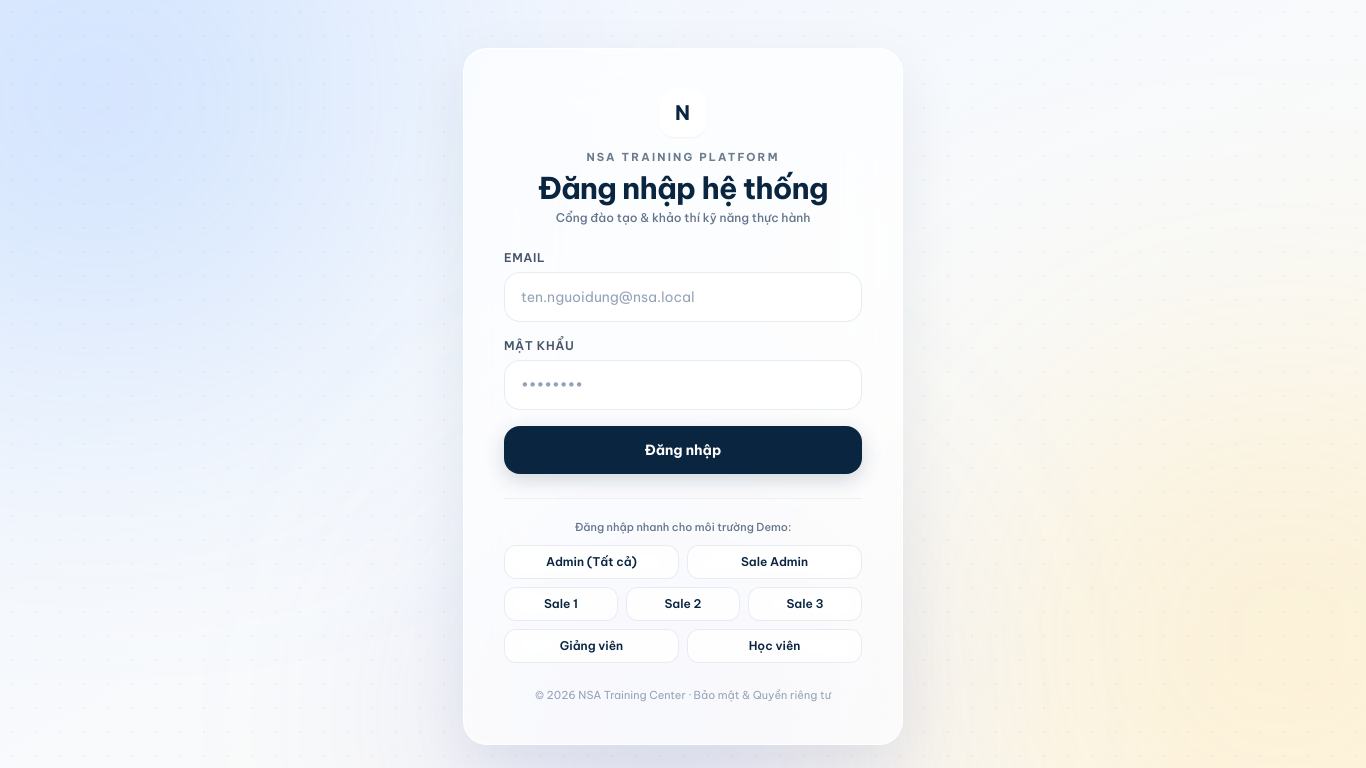
Test case: LoginPage › shows the generic server error on 401
Type "admin@nsa.local" into the field labelled "Email".
click(683, 296); type("admin@nsa.local")  # box [504, 272, 862, 322]
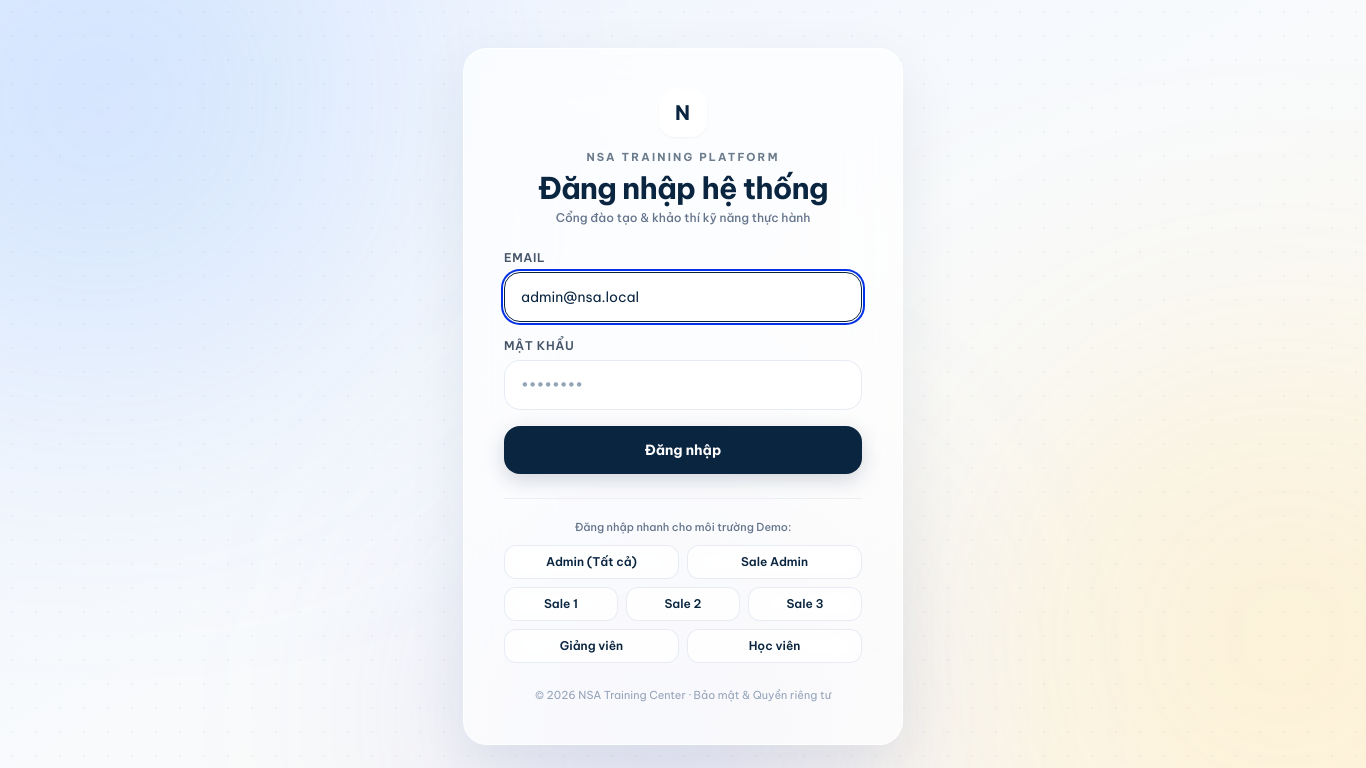
Type "wrongpass" into the password field labelled "Mật khẩu".
click(683, 384); type("wrongpass")  # box [504, 360, 862, 410]
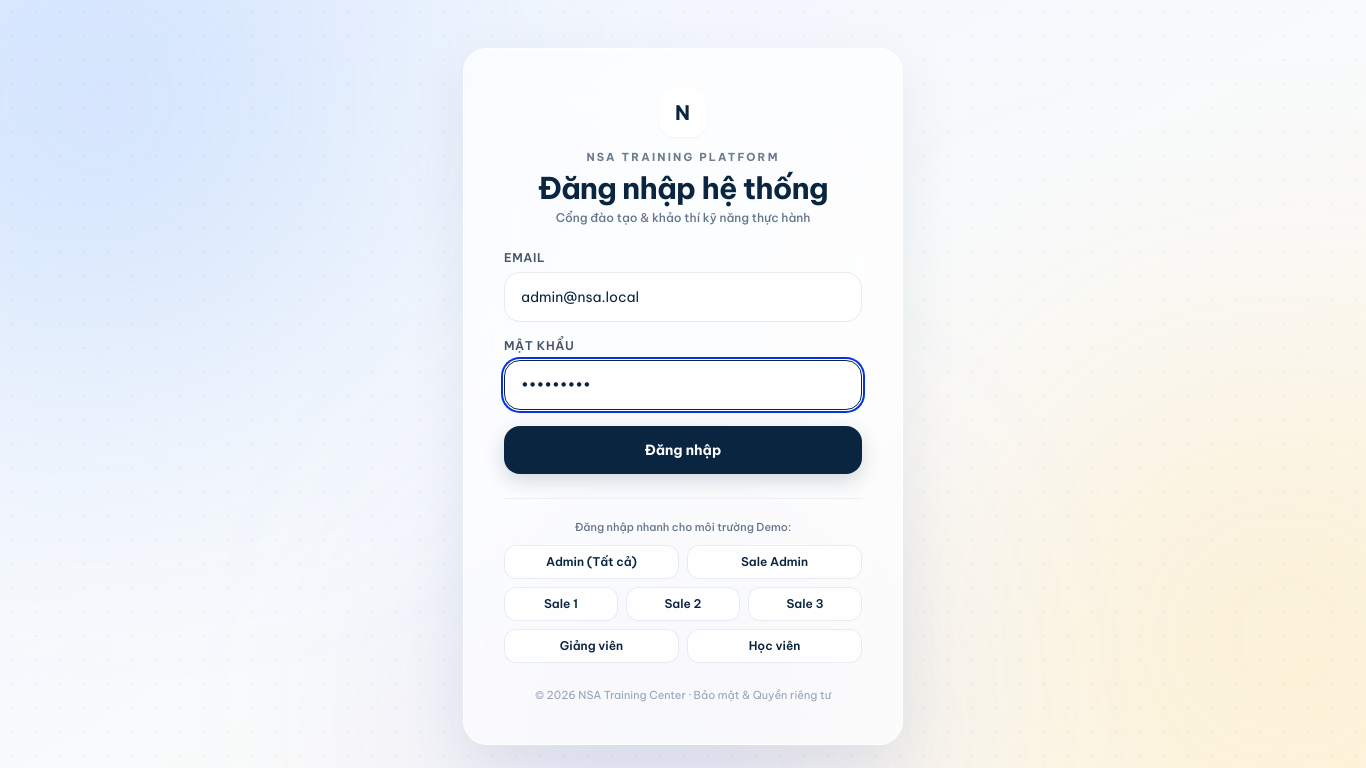
Click the button "Đăng nhập".
click(683, 450)  # box [504, 426, 862, 474]
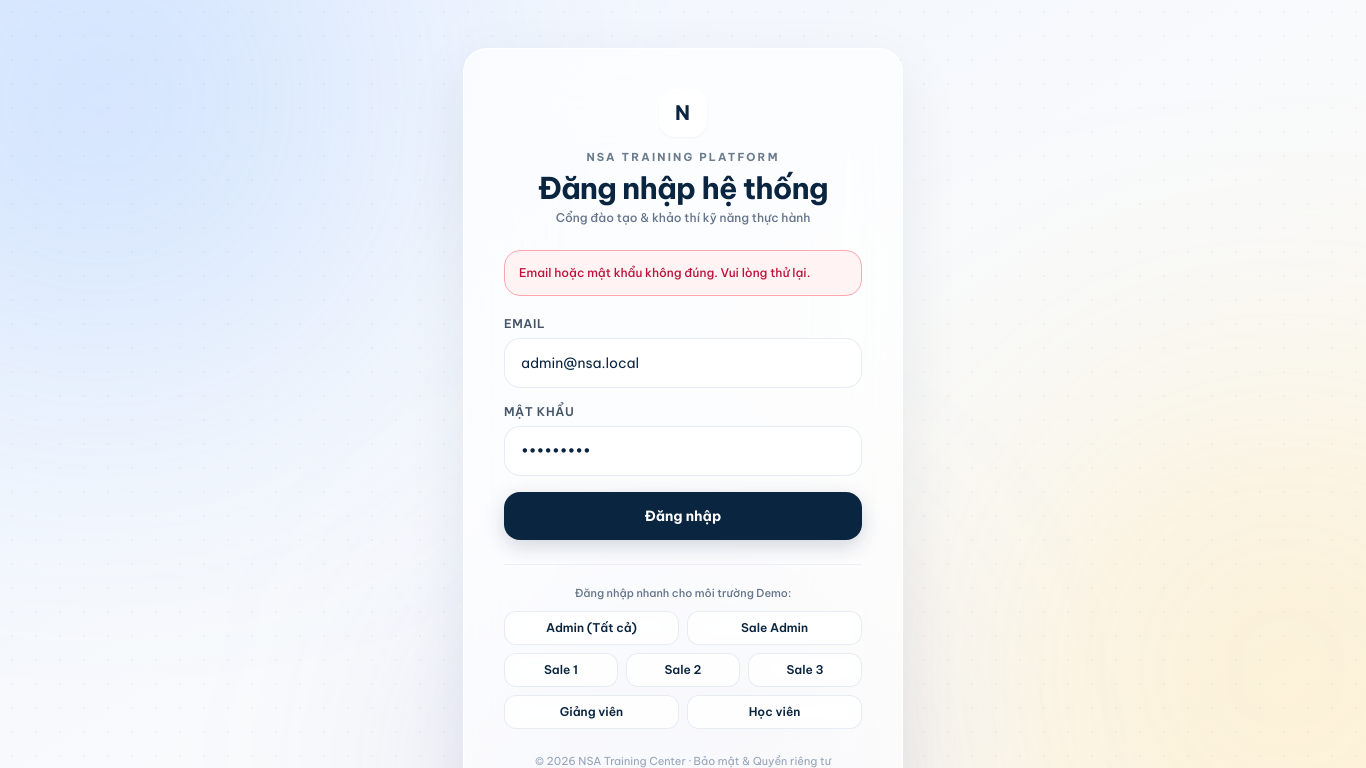
Result: the text "Email hoặc mật khẩu không đúng. Vui lòng thử lại." is shown at [504, 250, 862, 296]
